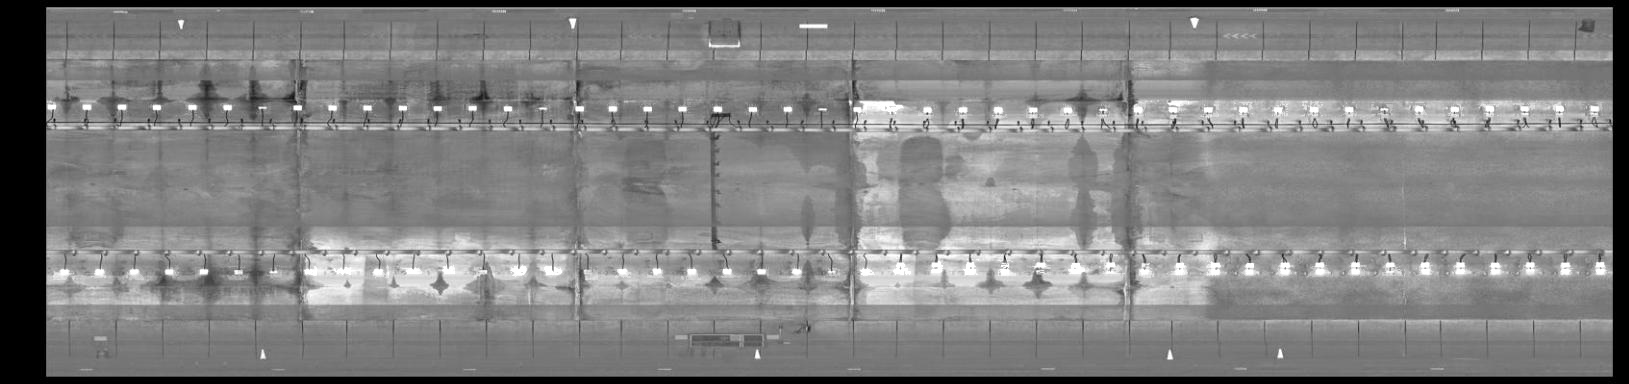light: (1307, 258, 1329, 279), (1343, 260, 1365, 278), (1382, 259, 1405, 276), (1098, 260, 1125, 274), (1274, 259, 1293, 277), (1302, 100, 1323, 116), (53, 265, 75, 280), (577, 265, 598, 280), (226, 266, 249, 280), (881, 102, 903, 116), (1167, 260, 1189, 275), (126, 264, 144, 280), (1206, 260, 1225, 277), (427, 101, 447, 116), (1136, 263, 1155, 278), (680, 266, 701, 280), (1371, 102, 1393, 115), (1026, 102, 1044, 118), (1241, 262, 1259, 278), (1126, 102, 1146, 116), (1485, 260, 1504, 275), (1415, 260, 1435, 275), (1513, 103, 1535, 115), (1064, 260, 1085, 274), (1583, 102, 1604, 115), (1450, 260, 1471, 274), (360, 100, 377, 116), (998, 260, 1016, 276), (892, 262, 911, 276), (1060, 102, 1078, 116), (1033, 260, 1051, 275), (1591, 260, 1609, 275), (159, 265, 179, 278), (195, 267, 215, 280), (508, 265, 528, 278), (1199, 104, 1219, 117), (1555, 262, 1575, 275), (184, 100, 201, 115), (474, 266, 495, 278), (1165, 103, 1180, 119), (324, 101, 342, 115), (371, 264, 389, 278), (252, 101, 271, 114), (1234, 102, 1253, 115), (544, 266, 564, 278), (954, 104, 973, 116), (1269, 104, 1288, 116), (1479, 104, 1499, 116), (963, 259, 979, 275), (290, 100, 306, 114), (569, 102, 587, 115), (647, 265, 665, 278), (745, 102, 763, 115), (918, 103, 936, 116), (1410, 102, 1427, 115), (787, 266, 806, 278), (266, 264, 282, 278), (1341, 102, 1357, 116), (1520, 260, 1542, 271), (500, 103, 519, 114), (604, 102, 620, 115), (1446, 104, 1464, 116), (717, 267, 736, 278), (615, 265, 631, 278), (991, 105, 1007, 118), (78, 101, 95, 113), (463, 103, 481, 114), (673, 102, 691, 113), (115, 101, 129, 115), (91, 265, 106, 278), (1553, 102, 1568, 115), (219, 101, 235, 113), (395, 103, 410, 115), (928, 260, 943, 273), (402, 265, 422, 274), (333, 265, 351, 275), (149, 101, 163, 113), (754, 267, 769, 279), (1095, 104, 1110, 116), (639, 103, 655, 114), (439, 263, 455, 274), (824, 267, 840, 277), (778, 105, 795, 115), (851, 105, 867, 115), (47, 101, 61, 112), (707, 104, 725, 113), (301, 266, 317, 276), (858, 267, 875, 276), (814, 105, 829, 115), (535, 104, 550, 113)
